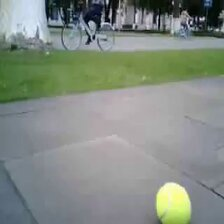tennis: (155, 181, 191, 224)
